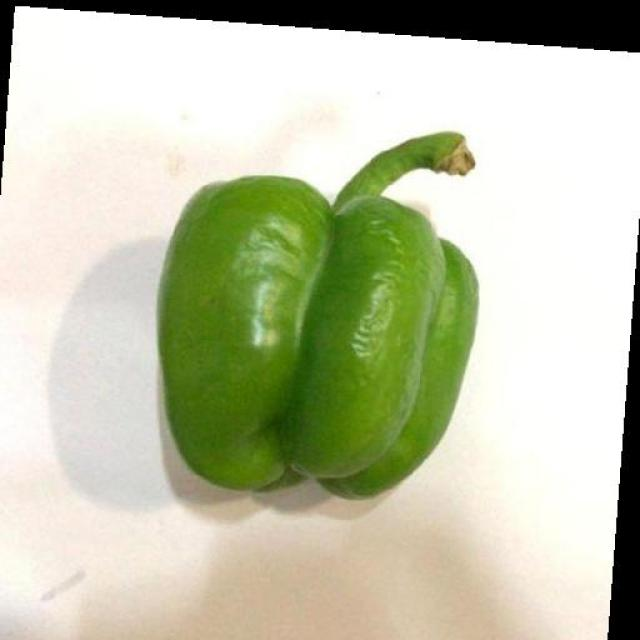Fresh_Capsicum: (152, 122, 508, 543)
